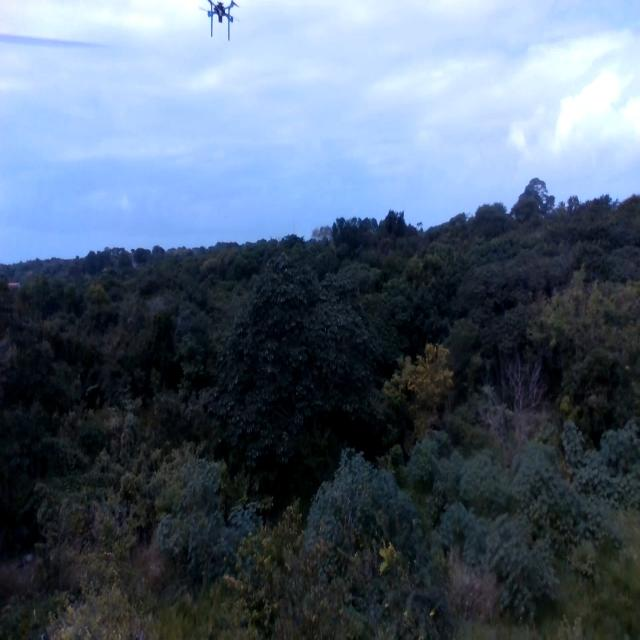-uav-: (202, 0, 242, 40)
